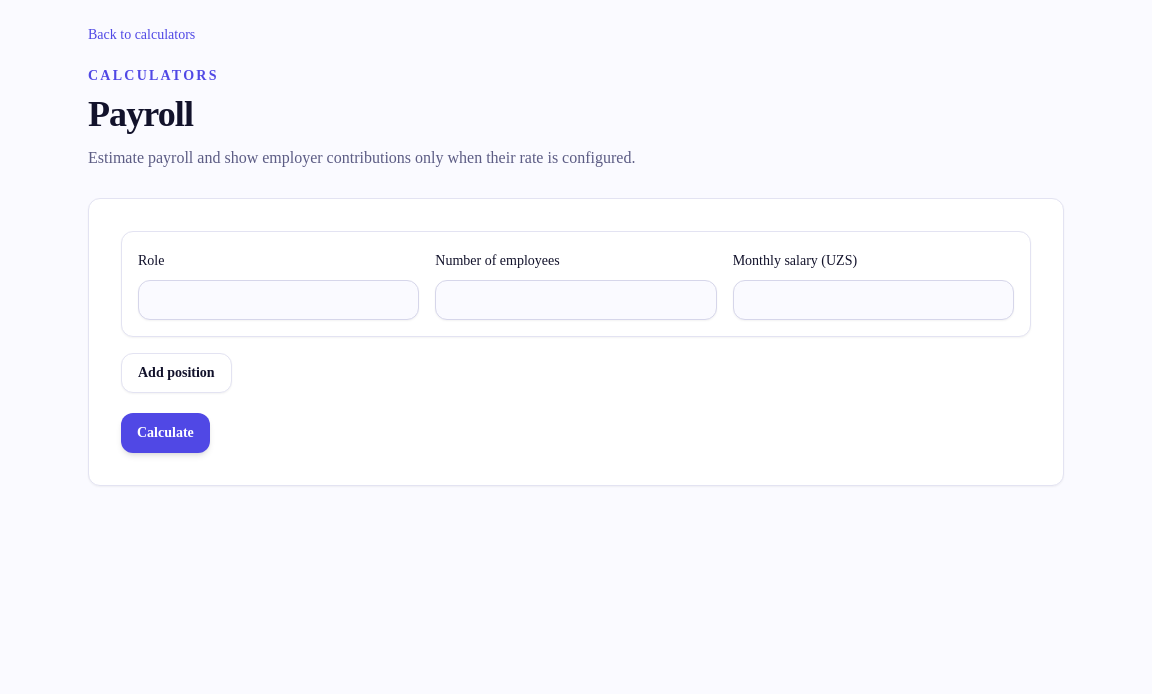
Test case: calculator workspace › does not display an unverified payroll contribution as zero
Type "Cook" into the field labelled "Role" at (279, 300), box [138,280,419,320]
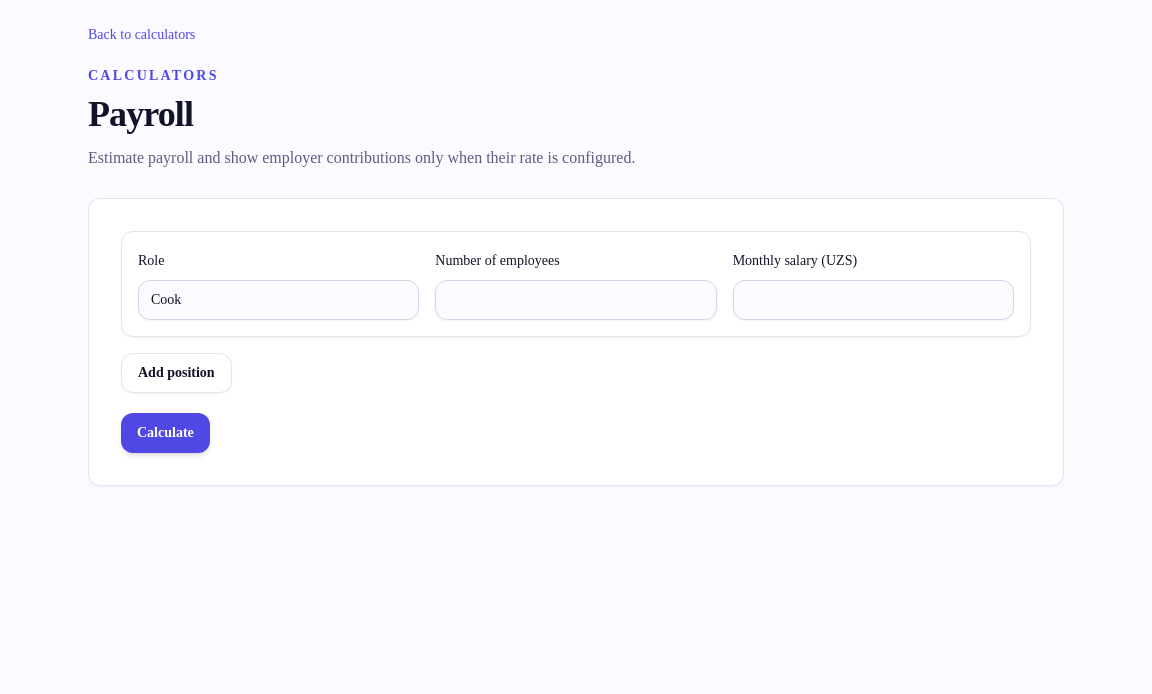
Type "2" into the number field labelled "Number of employees" at (576, 300), box [435,280,717,320]
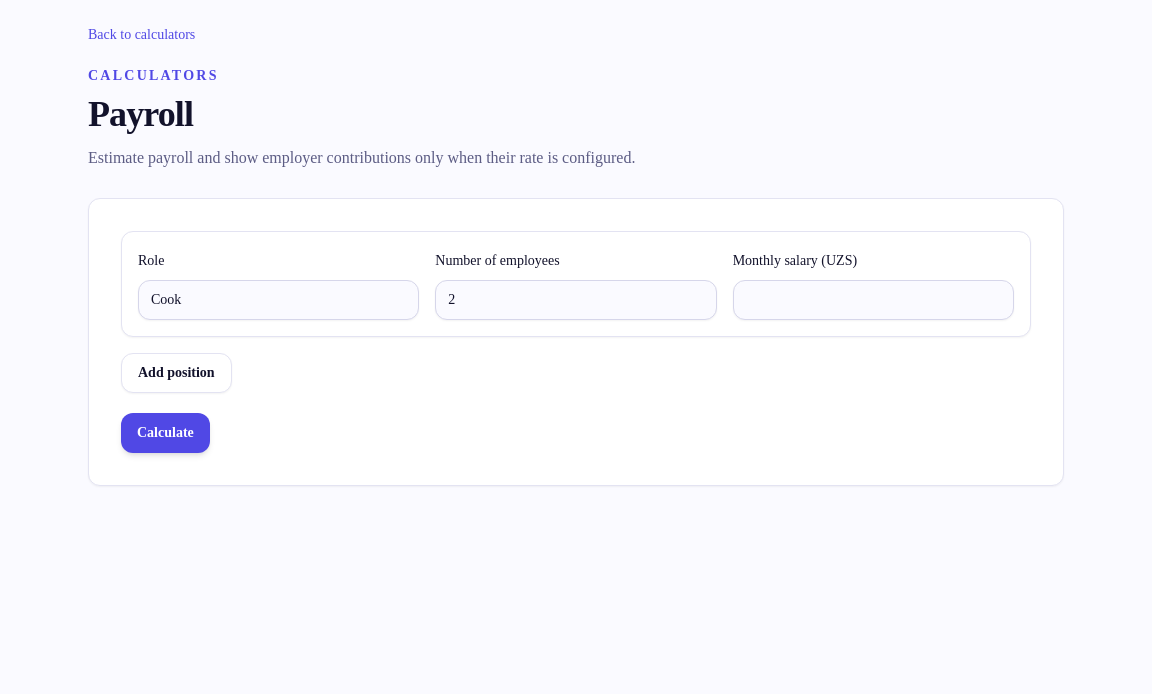
Type "100" into the number field labelled "Monthly salary (UZS)" at (873, 300), box [733,280,1014,320]
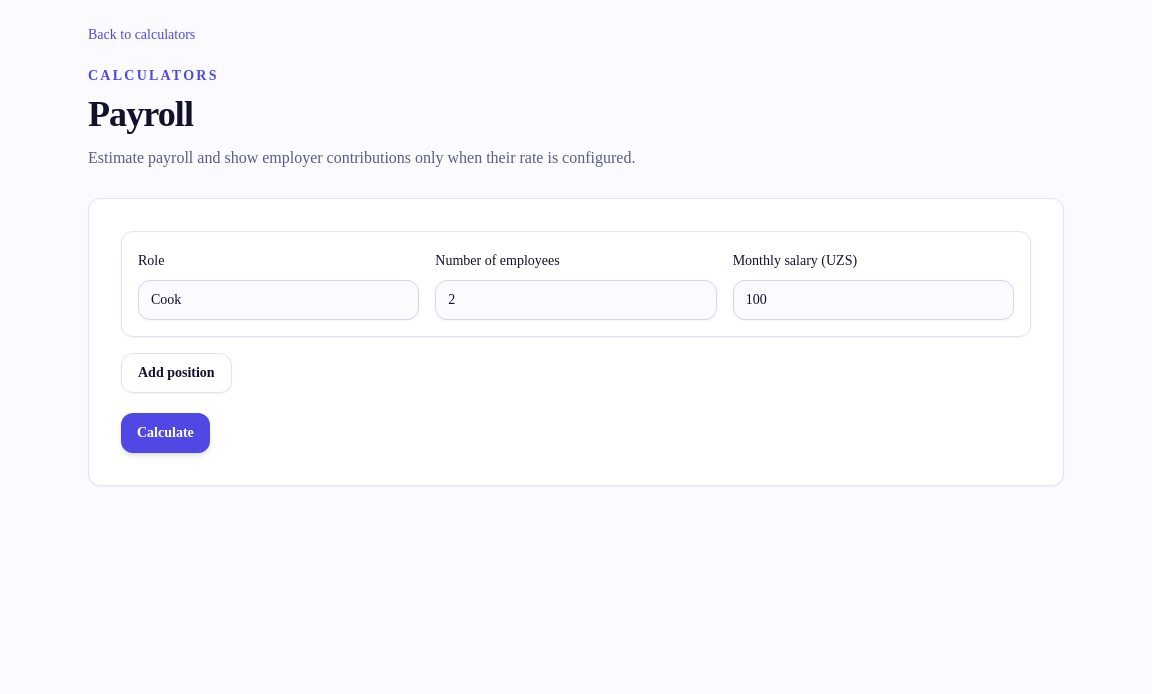
Click the button "Calculate" at (165, 433), box [121,413,210,453]
(page scrolled)
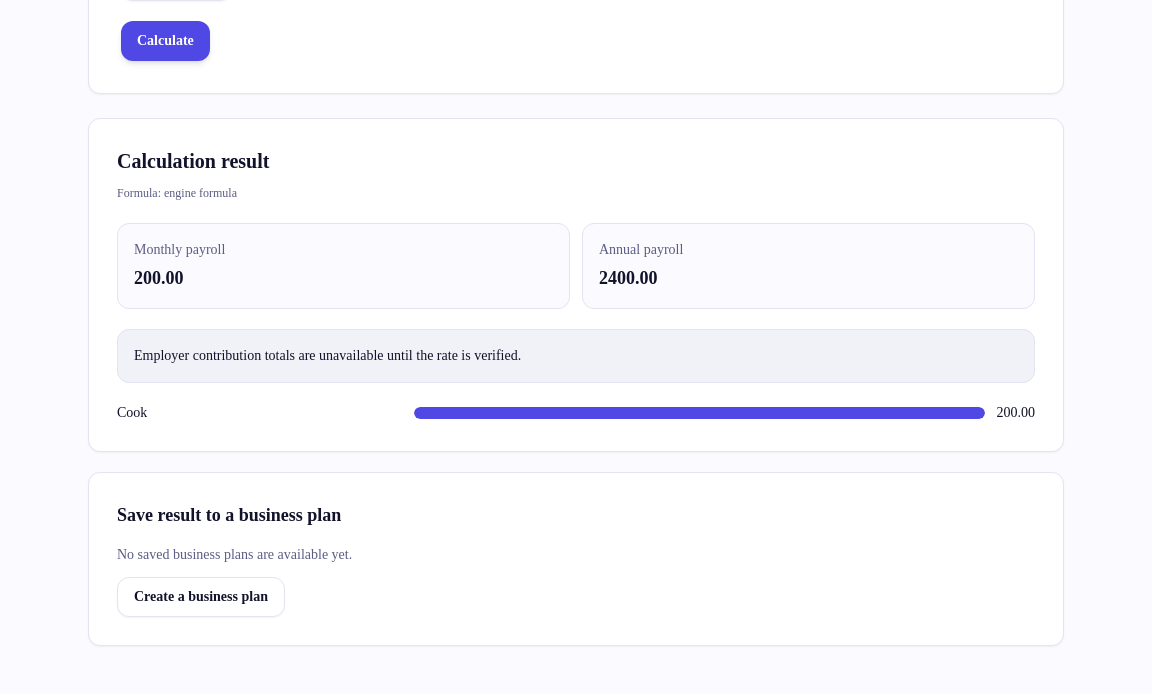
Result: the text "Monthly payroll" is shown at [134,242,225,257]
Result: the text "Employer contribution totals are unavailable until the rate is verified." is shown at [117,329,1035,383]
